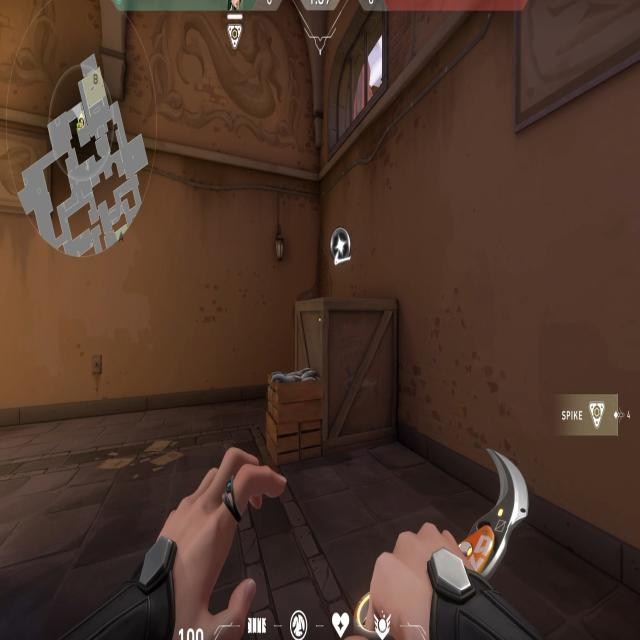B_Main_Wallbang: (265, 211, 406, 486)
Throwables: (317, 17, 407, 156)
